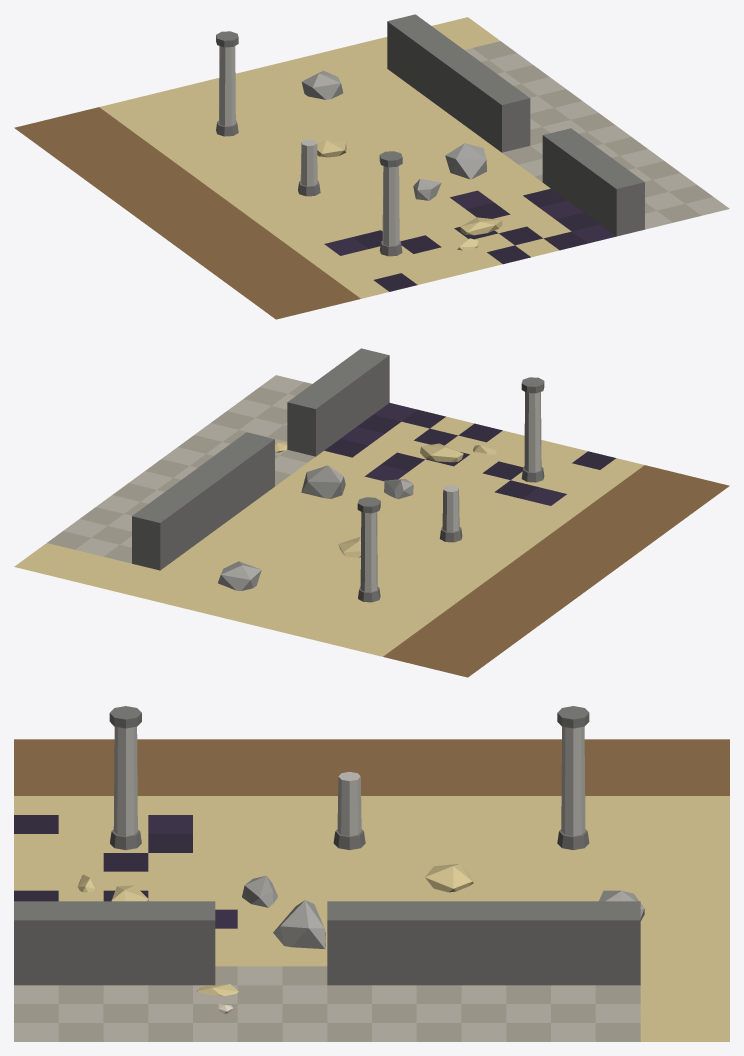
Rendered from chunk_6_21.glb.
The picture shows the model from 3 angles, top to bottom: view 1: azimuth 30°, elevation 25°; view 2: azimuth 150°, elevation 25°; view 3: azimuth 270°, elevation 25°; orthographic projection. The views are drawn at different scales.
Parts seen in each view (by area): view 1: chunk_6_21; view 2: chunk_6_21; view 3: chunk_6_21.
Part boxes in pixels (left/top/right/bottom): chunk_6_21: left=14, top=14, right=729, bottom=319; chunk_6_21: left=14, top=348, right=729, bottom=677; chunk_6_21: left=14, top=706, right=729, bottom=1041.
Size of the model in its own units: 16 by 3.67 by 16.
